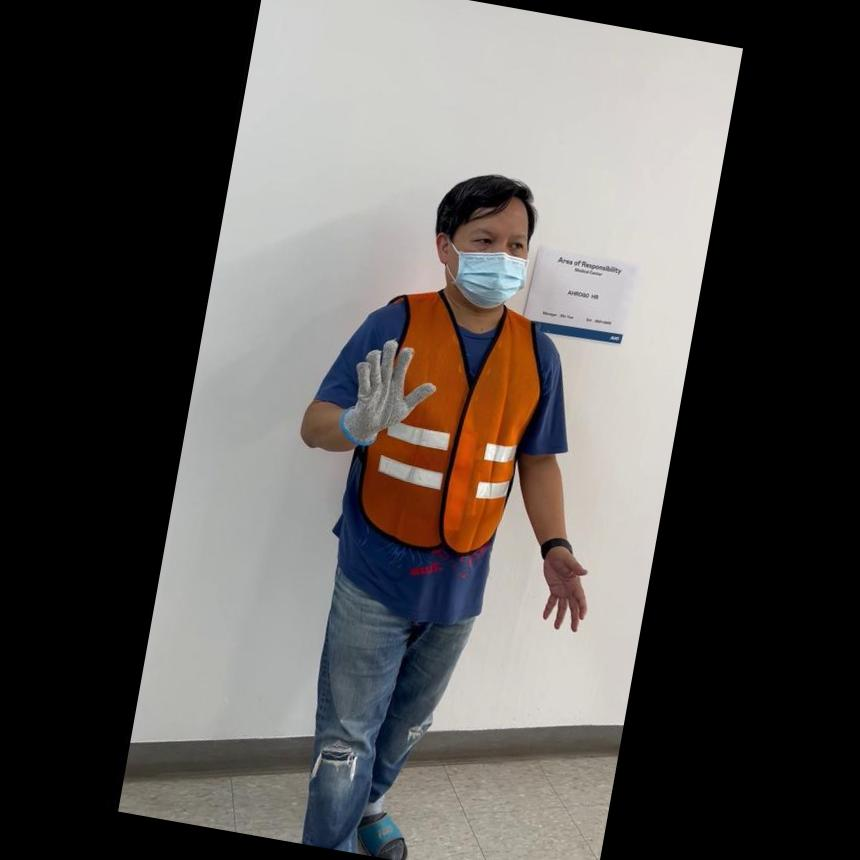Gloves: (334, 324, 443, 455)
No-gloves: (525, 539, 599, 637)
